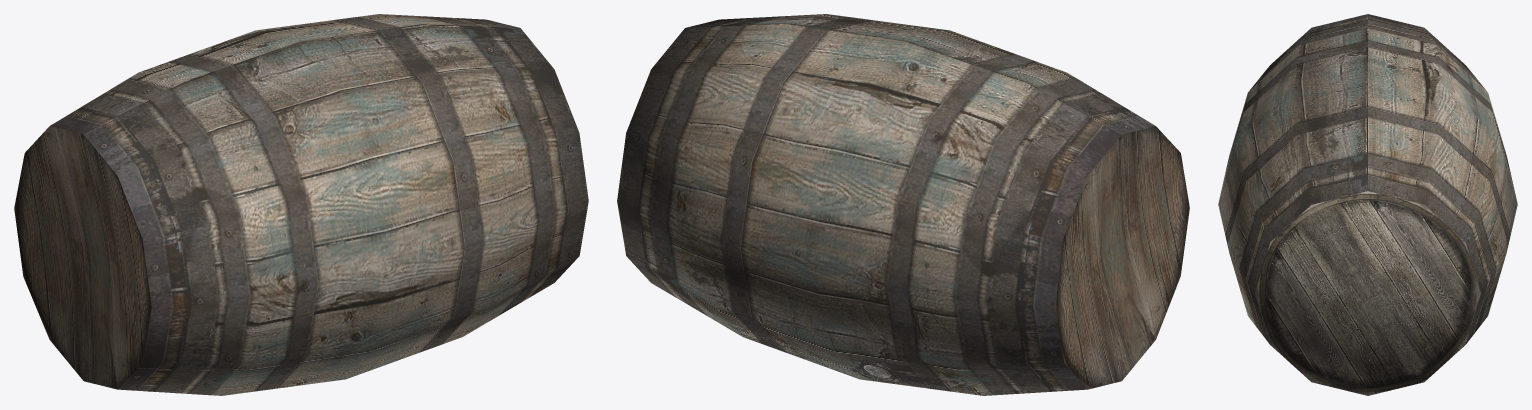
File: barril.dae
3 views of the same model, side by side, from view 1: azimuth 30°, elevation 25°; view 2: azimuth 150°, elevation 25°; view 3: azimuth 270°, elevation 25° (orthographic). The views are drawn at different scales.
Visible parts, largest first — view 1: WoodenBarrel; view 2: WoodenBarrel; view 3: WoodenBarrel.
Part boxes in pixels (x1,y1,x2,y2): WoodenBarrel: [14, 14, 588, 395]; WoodenBarrel: [617, 14, 1189, 395]; WoodenBarrel: [1218, 14, 1517, 395].
Bounding box in the file's own units: 56.66 × 40.35 × 40.36.
Materials: 1 (1 with a texture image).
